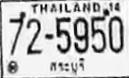0: (108, 16, 123, 53)
2: (26, 17, 41, 54)
5: (90, 15, 106, 53), (55, 16, 70, 53)
7: (8, 17, 25, 54)
9: (73, 16, 88, 53)
SRI: (47, 56, 88, 78)
